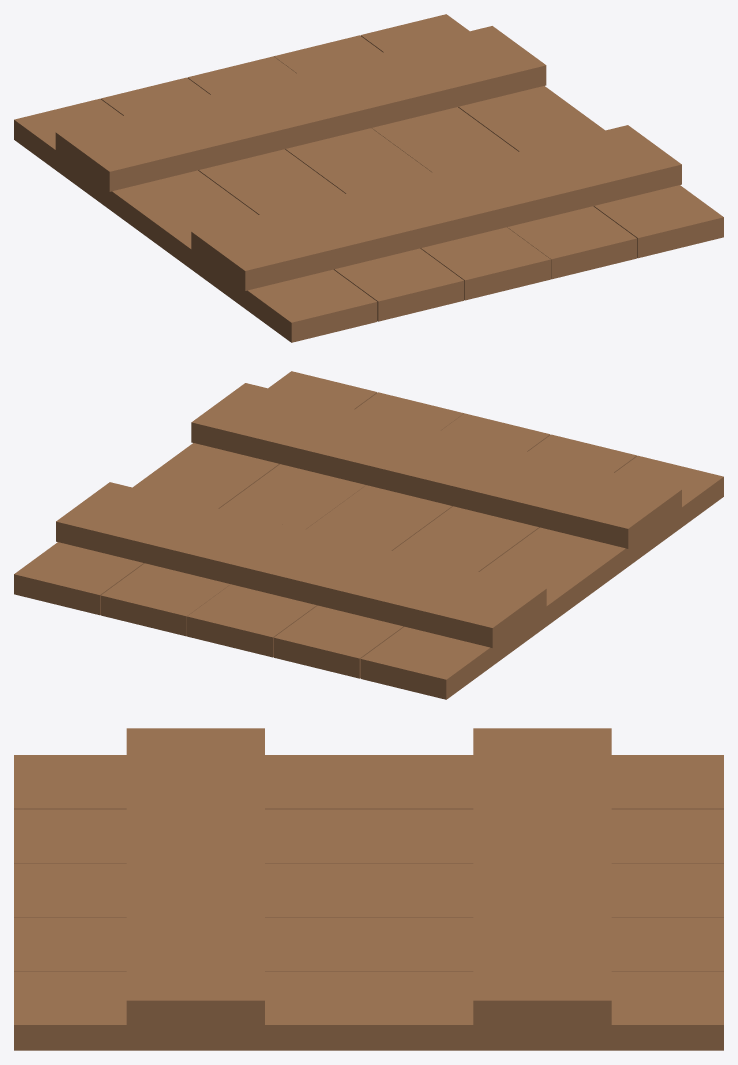
The model's file is GrenadeCrateLid.fbx.
3 views of the same model, one above another, from view 1: azimuth 30°, elevation 25°; view 2: azimuth 150°, elevation 25°; view 3: azimuth 270°, elevation 25° (orthographic). The views are drawn at different scales.
Visible parts, largest first — view 1: GrenadeCrate_lid; view 2: GrenadeCrate_lid; view 3: GrenadeCrate_lid.
Boxes of the visible parts, box(x1,y1,x2,y2) form: GrenadeCrate_lid: box(14, 14, 723, 342); GrenadeCrate_lid: box(14, 371, 723, 699); GrenadeCrate_lid: box(14, 728, 723, 1050).
Bounding box in the file's own units: 131 × 11.5 × 144.
